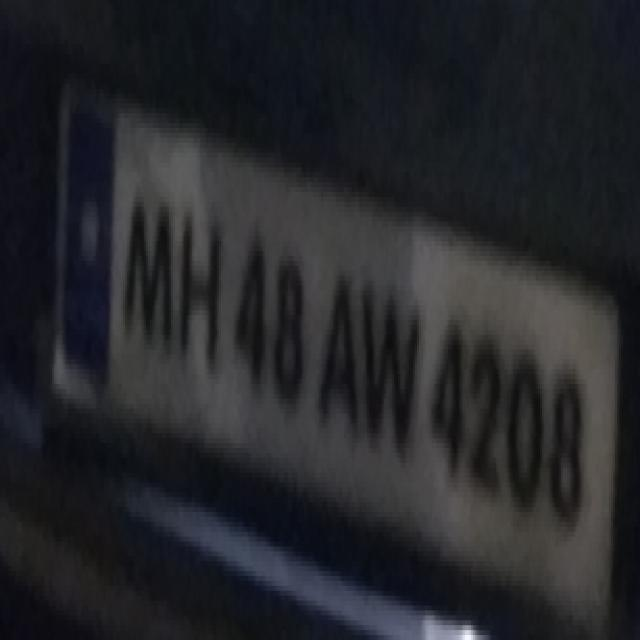0: (503, 348, 548, 506)
4: (428, 298, 470, 480), (230, 221, 270, 388)
8: (544, 366, 590, 542), (275, 246, 308, 412)
A: (317, 266, 363, 439)
H: (180, 197, 223, 371)
M: (120, 188, 176, 352)
W: (360, 275, 424, 451)
